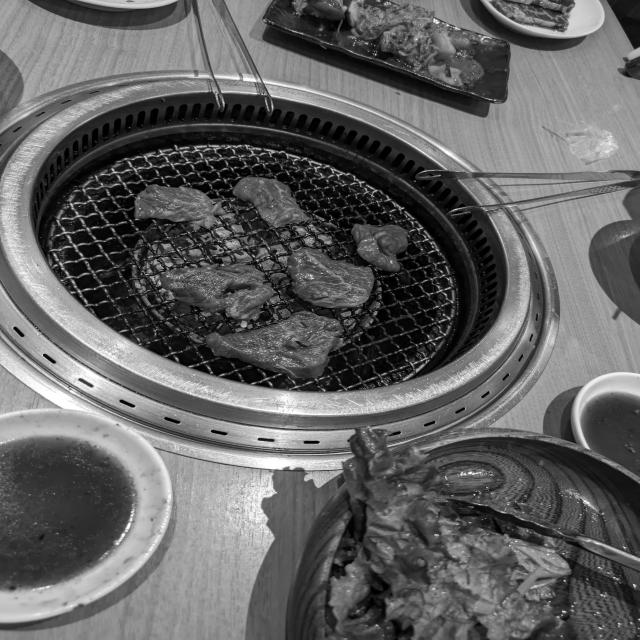NG raw beef,: (200, 309, 355, 385), (151, 258, 279, 325), (276, 239, 379, 316), (129, 175, 234, 232), (228, 171, 319, 233), (347, 219, 418, 277)
